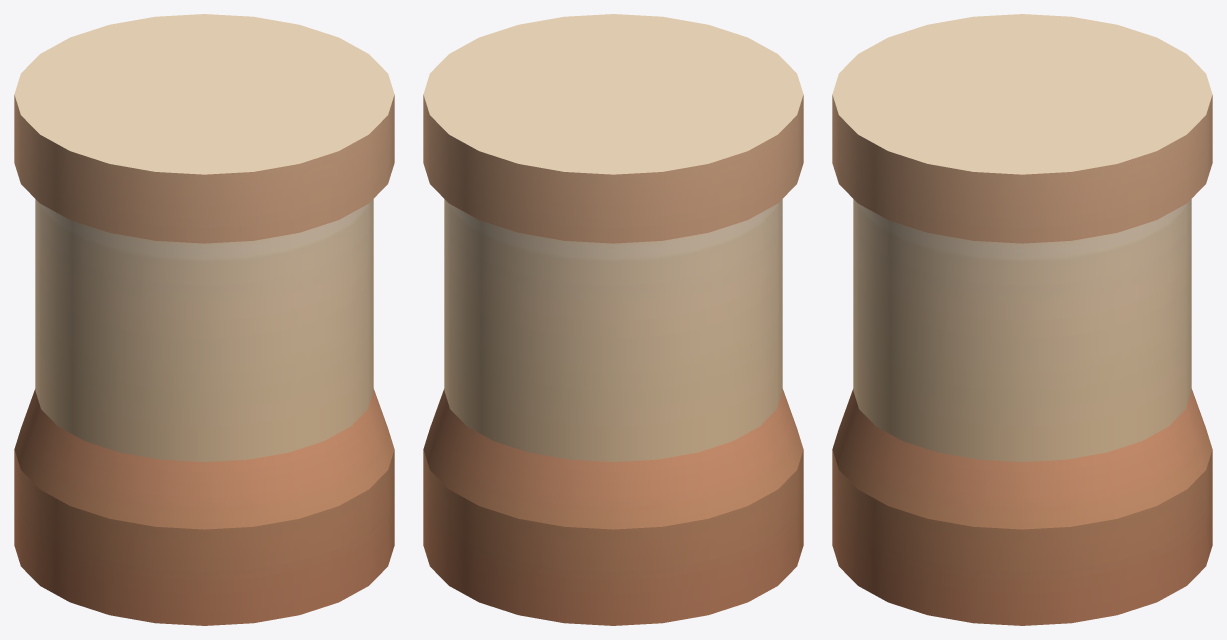
Rendered from kenney-castle-tower-base.glb.
The picture shows the model from 3 angles, left to right: view 1: azimuth 30°, elevation 25°; view 2: azimuth 150°, elevation 25°; view 3: azimuth 270°, elevation 25°; orthographic projection.
Parts seen in each view (by area): view 1: tower-base; view 2: tower-base; view 3: tower-base.
Part boxes in pixels (bbox=[...]): tower-base: bbox=[14, 14, 394, 625]; tower-base: bbox=[423, 14, 803, 625]; tower-base: bbox=[832, 14, 1212, 625].
Size of the model in its own units: 1 by 1.31 by 1.
1 material, 1 textured.
